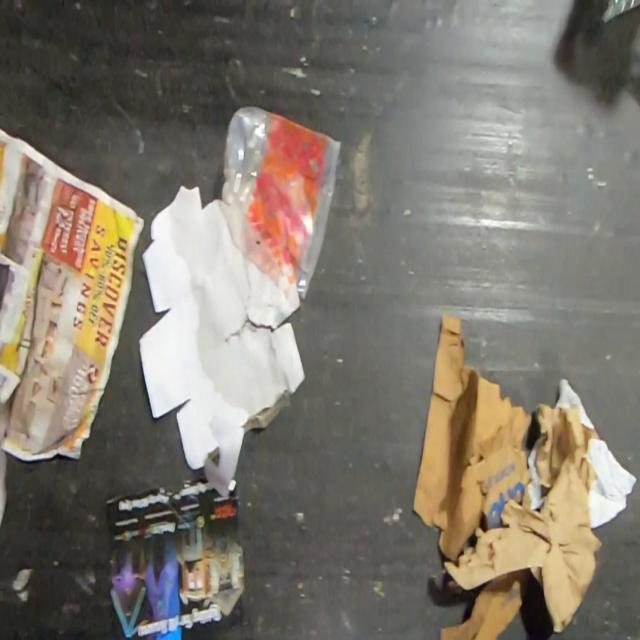cardboard: (137, 183, 306, 470), (410, 311, 533, 561), (438, 568, 532, 639)
rigid_plastic: (218, 103, 342, 308)
soft_plastic: (584, 439, 638, 528), (204, 415, 246, 498), (554, 377, 595, 431), (526, 433, 547, 511)
